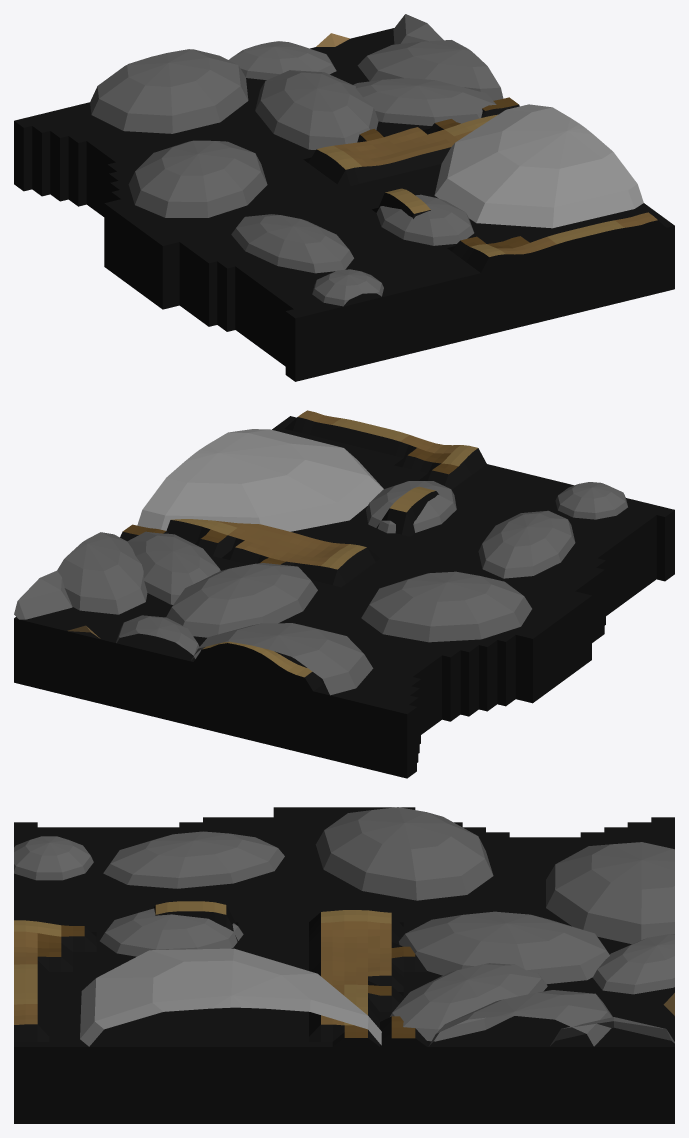
The picture shows the model from 3 angles, top to bottom: view 1: azimuth 30°, elevation 25°; view 2: azimuth 150°, elevation 25°; view 3: azimuth 270°, elevation 25°; orthographic projection. The views are drawn at different scales.
Visible parts, largest first — view 1: shapesz-t185; view 2: shapesz-t185; view 3: shapesz-t185.
Boxes of the visible parts, x1,y1,x2,y2 form: shapesz-t185: [14, 14, 674, 381]; shapesz-t185: [14, 410, 674, 778]; shapesz-t185: [14, 807, 674, 1123].
Size of the model in its own units: 2 by 0.458 by 2.33.
